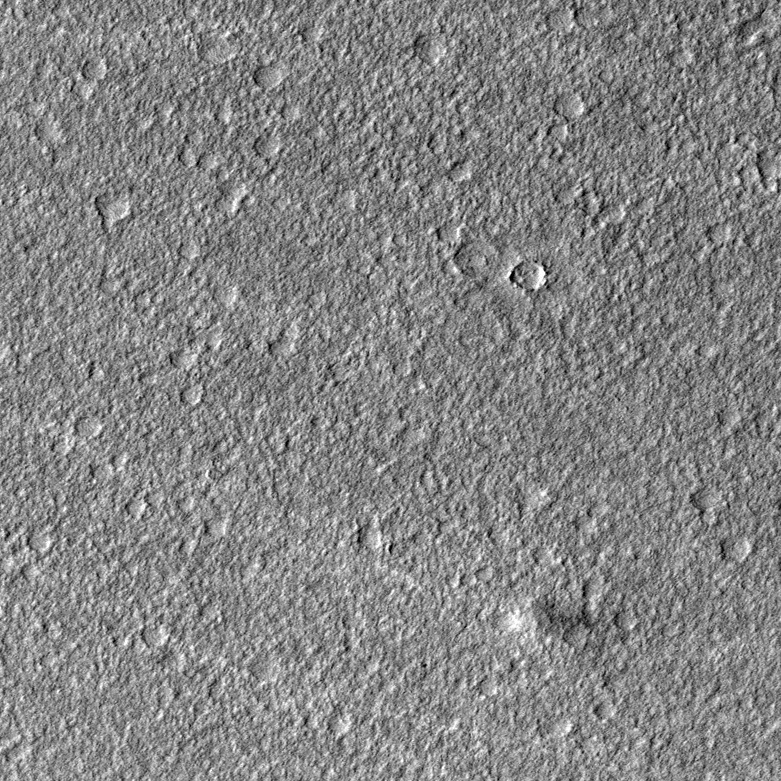dust_devil: (503, 596, 595, 641)
